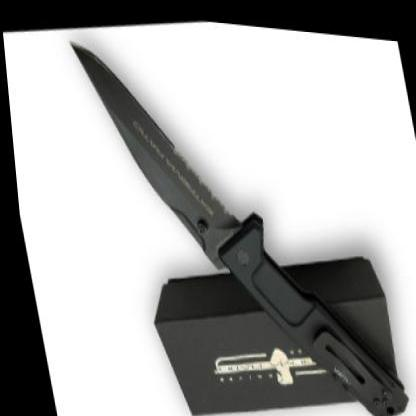knife: (61, 8, 273, 290)
